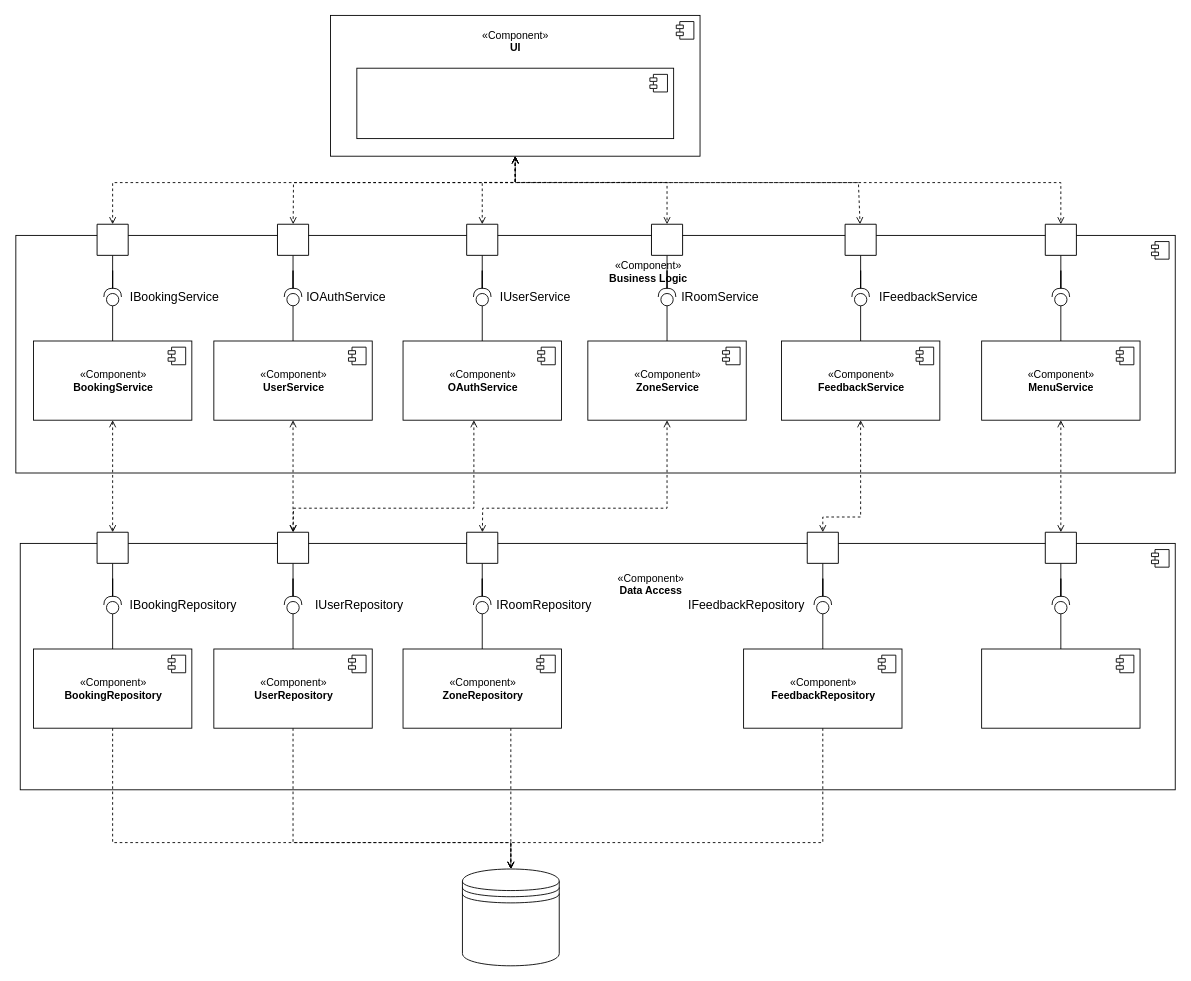
Image size: 1191x981. Some labels were removed from this diagram. Each missing label, with the centre of its shape:
DataBase: [510,917]
«Component» MenuRepository: [1060,688]
«Component» React: [515,103]
